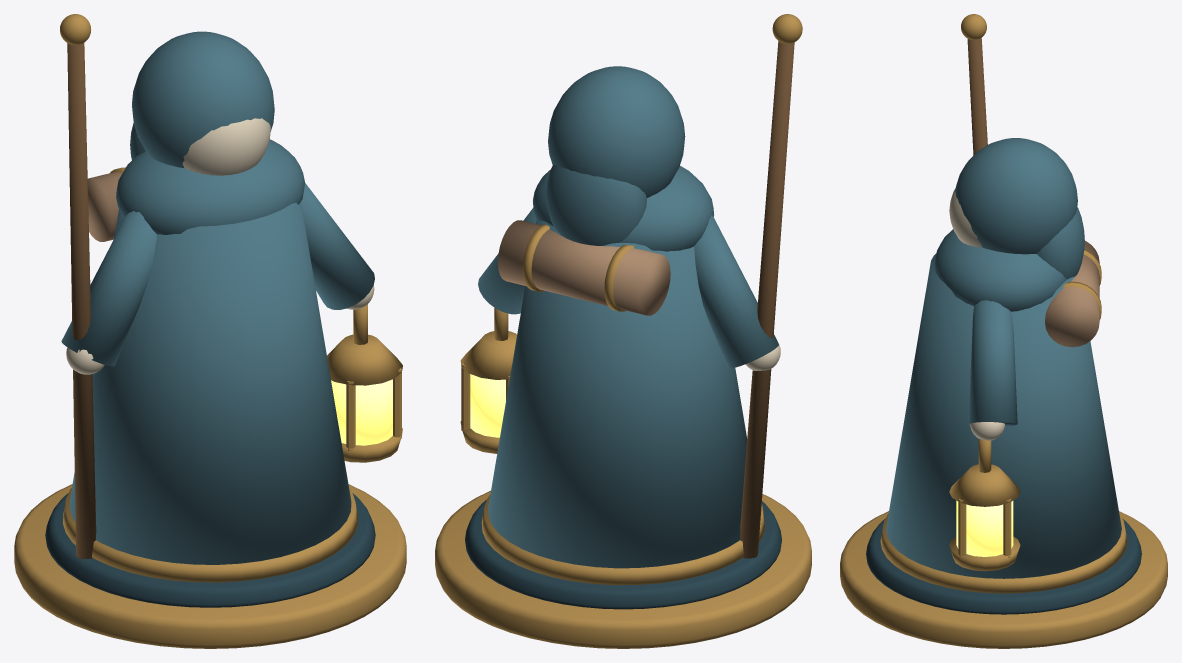
File: traveller.glb
The picture shows the model from 3 angles, left to right: view 1: azimuth 30°, elevation 25°; view 2: azimuth 150°, elevation 25°; view 3: azimuth 270°, elevation 25°; orthographic projection. The views are drawn at different scales.
Parts seen in each view (by area): view 1: traveller, lantern; view 2: traveller, lantern; view 3: traveller, lantern.
Part boxes in pixels (<box>): traveller: <box>14,14,406,648</box>; lantern: <box>327,304,402,462</box>; traveller: <box>435,14,811,648</box>; lantern: <box>460,308,516,453</box>; traveller: <box>840,14,1167,648</box>; lantern: <box>949,439,1020,571</box>.
Bounding box in the file's own units: 0.6102 × 1.02 × 0.6.
